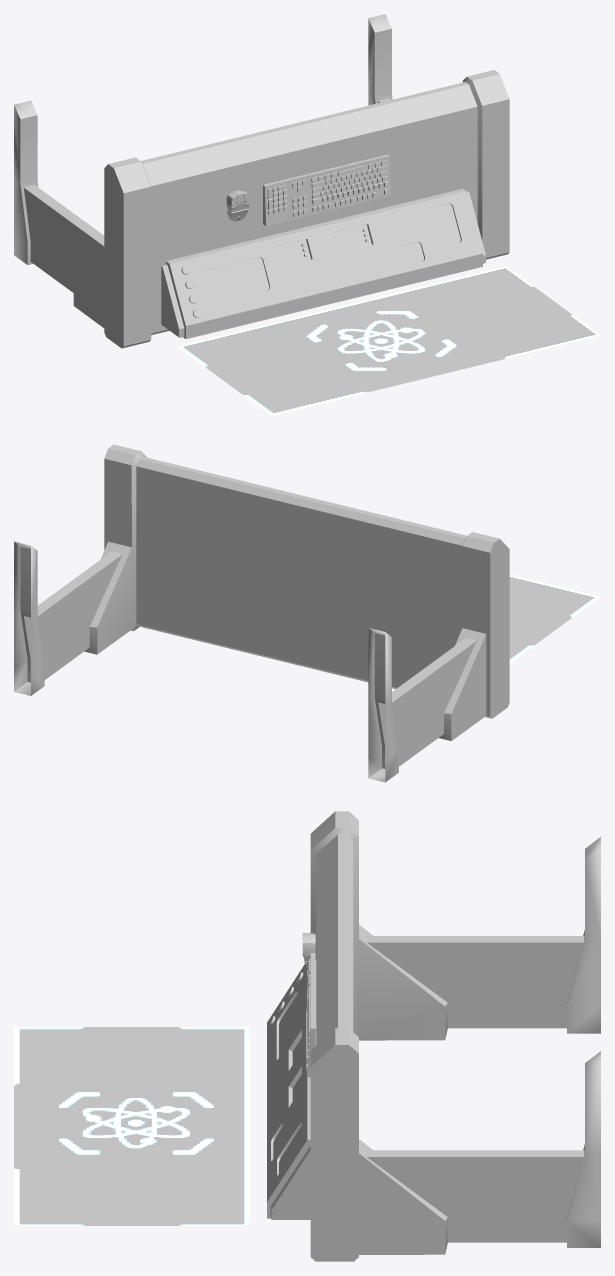
The model's file is cpu_B_low.fbx.
3 views of the same model, one above another, from view 1: azimuth 30°, elevation 25°; view 2: azimuth 150°, elevation 25°; view 3: azimuth 270°, elevation 25° (orthographic). The views are drawn at different scales.
Visible parts, largest first — view 1: cpuB; view 2: cpuB; view 3: cpuB.
Part boxes in pixels (x1,y1,x2,y2): cpuB: [14, 14, 600, 415]; cpuB: [14, 444, 600, 782]; cpuB: [14, 811, 600, 1261].
Bounding box in the file's own units: 183 × 79.2 × 195.
